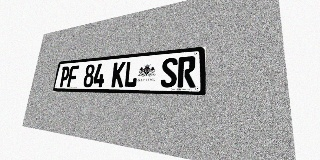4: (92, 63, 106, 87)
8: (83, 64, 96, 87)
F: (67, 65, 79, 87)
K: (111, 62, 126, 87)
L: (123, 60, 139, 87)
P: (59, 66, 70, 87)
R: (177, 56, 196, 88)
S: (160, 57, 178, 88)
